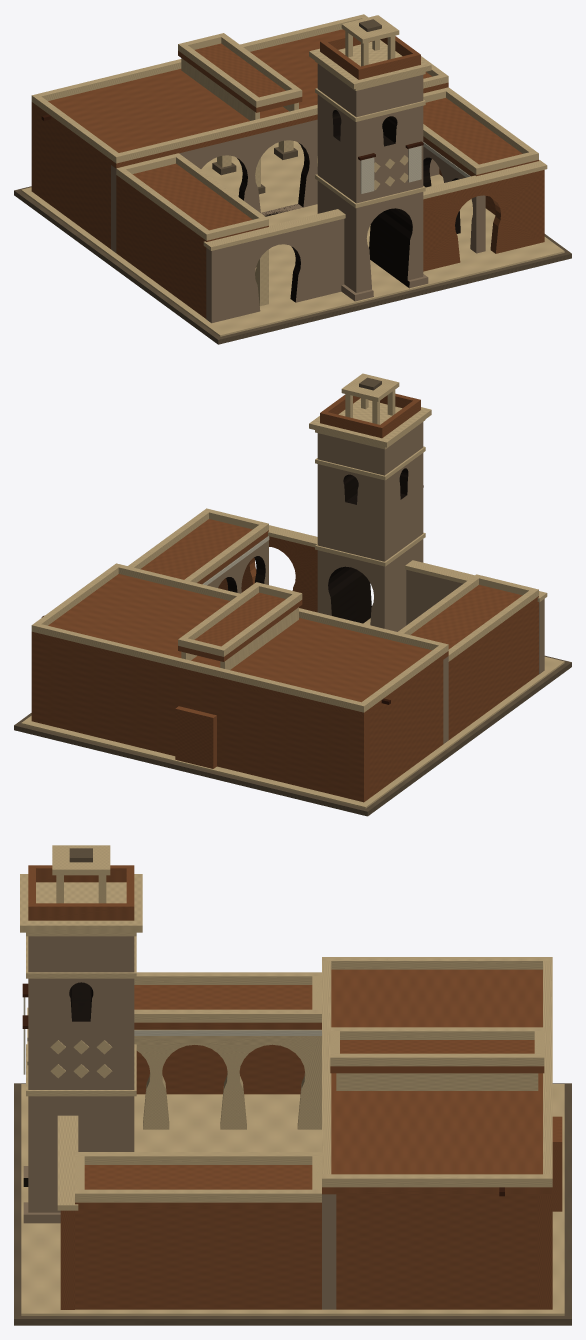
File: Berber_Wonder_Age4.fbx
The picture shows the model from 3 angles, top to bottom: view 1: azimuth 30°, elevation 25°; view 2: azimuth 150°, elevation 25°; view 3: azimuth 270°, elevation 25°; orthographic projection. The views are drawn at different scales.
Parts seen in each view (by area): view 1: great_square_tower, main_hypostyle_roof, paved_sanctuary, entrance_facade_-3.28, entrance_facade_3.28, gallery_outer_wall_-5.3, hall_outer_wall_-5.3, grand_hypostyle_front_arcade, foundation, gallery_roof_-5.3, gallery_roof_5.3, main_hypostyle_roof_parapet.003 (+27 smaller); view 2: qibla_wall, main_hypostyle_roof, great_square_tower, gallery_outer_wall_-5.3, hall_outer_wall_-5.3, foundation, paved_sanctuary, gallery_roof_-5.3, gallery_roof_5.3, main_hypostyle_roof_parapet.003, main_hypostyle_roof_parapet.002, raised_axial_nave_roof (+21 smaller); view 3: main_hypostyle_roof, gallery_outer_wall_5.3, hall_outer_wall_5.3, great_square_tower, paved_sanctuary, foundation, gallery_arcade_-5.3, gallery_roof_5.3, gallery_outer_wall_-5.3, gallery_roof_-5.3, raised_axial_nave_roof, tower_cornice (+23 smaller).
Boxes of the visible parts, x1=… form: great_square_tower: x1=317, y1=64, x2=423, y2=292; main_hypostyle_roof: x1=31, y1=29, x2=448, y2=168; paved_sanctuary: x1=21, y1=141, x2=564, y2=336; entrance_facade_-3.28: x1=206, y1=219, x2=344, y2=323; entrance_facade_3.28: x1=423, y1=170, x2=544, y2=271; gallery_outer_wall_-5.3: x1=116, y1=180, x2=206, y2=318; hall_outer_wall_-5.3: x1=37, y1=111, x2=110, y2=248; grand_hypostyle_front_arcade: x1=111, y1=119, x2=439, y2=252; foundation: x1=14, y1=186, x2=571, y2=344; gallery_roof_-5.3: x1=116, y1=163, x2=268, y2=243; gallery_roof_5.3: x1=423, y1=98, x2=538, y2=176; main_hypostyle_roof_parapet.003: x1=38, y1=16, x2=361, y2=100; qibla_wall: x1=31, y1=637, x2=369, y2=802; main_hypostyle_roof: x1=31, y1=574, x2=448, y2=717; great_square_tower: x1=317, y1=422, x2=423, y2=631; gallery_outer_wall_-5.3: x1=448, y1=602, x2=538, y2=739; hall_outer_wall_-5.3: x1=369, y1=660, x2=443, y2=798; foundation: x1=14, y1=655, x2=571, y2=816; paved_sanctuary: x1=21, y1=618, x2=564, y2=808; gallery_roof_-5.3: x1=410, y1=585, x2=538, y2=666; gallery_roof_5.3: x1=140, y1=519, x2=268, y2=584; main_hypostyle_roof_parapet.003: x1=37, y1=624, x2=360, y2=710; main_hypostyle_roof_parapet.002: x1=118, y1=565, x2=441, y2=650; raised_axial_nave_roof: x1=178, y1=592, x2=302, y2=661; main_hypostyle_roof: x1=322, y1=969, x2=552, y2=1194; gallery_outer_wall_5.3: x1=75, y1=1209, x2=321, y2=1309; hall_outer_wall_5.3: x1=336, y1=1194, x2=538, y2=1309; great_square_tower: x1=28, y1=936, x2=134, y2=1212; paved_sanctuary: x1=21, y1=1084, x2=564, y2=1315; foundation: x1=14, y1=1083, x2=571, y2=1325; gallery_arcade_-5.3: x1=134, y1=1029, x2=321, y2=1129; gallery_roof_5.3: x1=75, y1=1165, x2=321, y2=1209; gallery_outer_wall_-5.3: x1=136, y1=1044, x2=304, y2=1094; gallery_roof_-5.3: x1=134, y1=985, x2=321, y2=1029; raised_axial_nave_roof: x1=330, y1=1040, x2=544, y2=1073; tower_cornice: x1=20, y1=874, x2=142, y2=932.
Bounding box in the file's own units: 1160 × 813 × 1160.
Materials: 7 (7 with a texture image).
